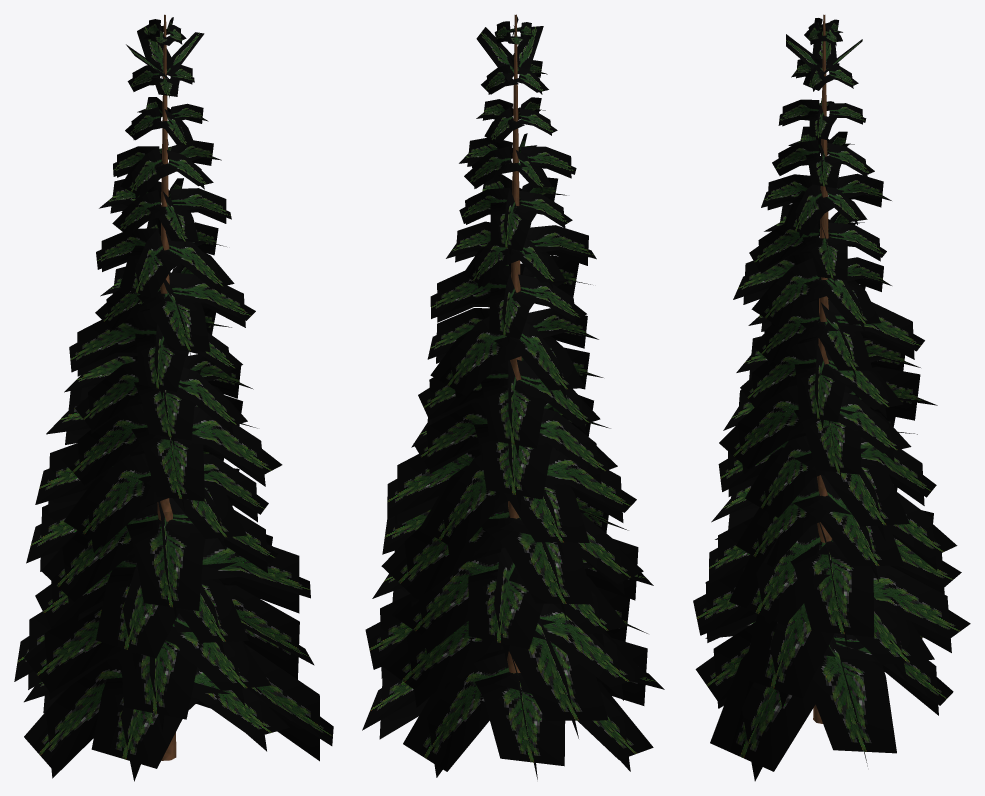
File: arbre_epicea_lod1.glb
3 renders of one model, left to right at view 1: azimuth 30°, elevation 25°; view 2: azimuth 150°, elevation 25°; view 3: azimuth 270°, elevation 25°, orthographic. The views are drawn at different scales.
Parts seen in each view (by area): view 1: arbre; view 2: arbre; view 3: arbre.
Part boxes in pixels (x1,y1,x2,y2): arbre: (14,14,333,781); arbre: (362,14,664,779); arbre: (693,14,970,781).
Size of the model in its own units: 8.38 by 22.53 by 7.96.
2 materials, 2 textured.
